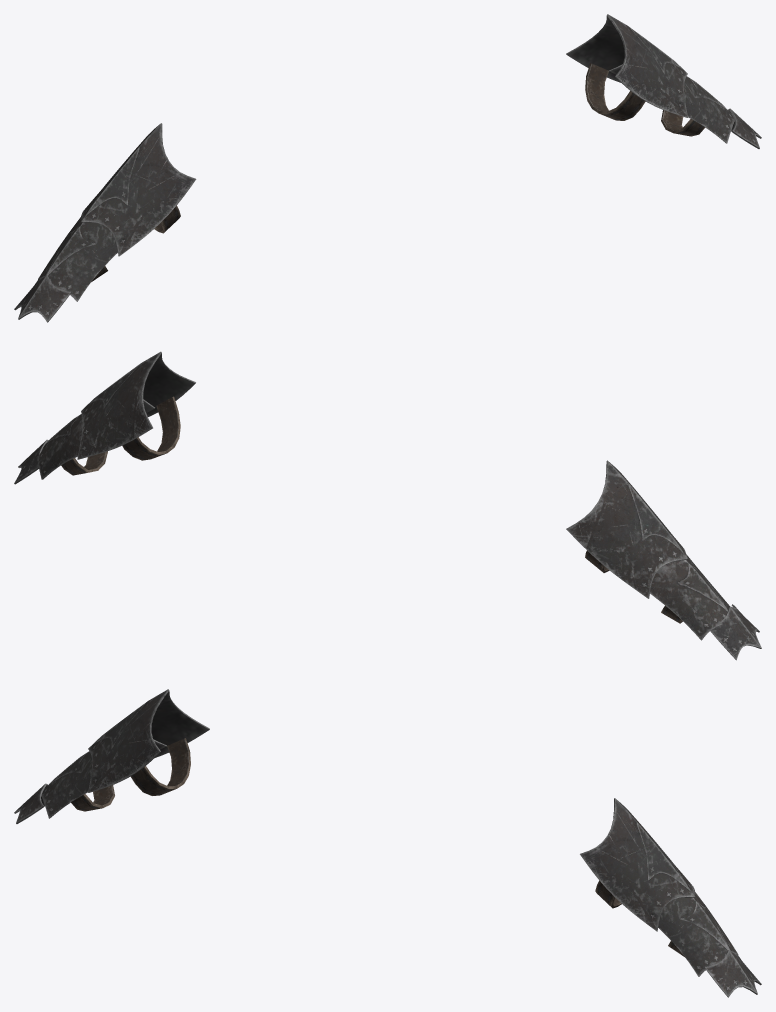
Rendered from sk_uruk_mordor_bracer_heavy_b.fbx.
3 views of the same model, one above another, from view 1: azimuth 30°, elevation 25°; view 2: azimuth 150°, elevation 25°; view 3: azimuth 330°, elevation 25° (orthographic).
Parts seen in each view (by area): view 1: sk_uruk_mordor_bracer_heavy_b.1, sk_uruk_mordor_bracer_heavy_b.0; view 2: sk_uruk_mordor_bracer_heavy_b.1, sk_uruk_mordor_bracer_heavy_b.0; view 3: sk_uruk_mordor_bracer_heavy_b.1, sk_uruk_mordor_bracer_heavy_b.0.
Boxes of the visible parts, bbox=[...] form: sk_uruk_mordor_bracer_heavy_b.1: bbox=[14, 14, 761, 322]; sk_uruk_mordor_bracer_heavy_b.0: bbox=[91, 63, 704, 281]; sk_uruk_mordor_bracer_heavy_b.1: bbox=[14, 351, 761, 660]; sk_uruk_mordor_bracer_heavy_b.0: bbox=[61, 396, 682, 623]; sk_uruk_mordor_bracer_heavy_b.1: bbox=[14, 689, 761, 997]; sk_uruk_mordor_bracer_heavy_b.0: bbox=[71, 738, 684, 956].
Size of the model in its own units: 1.53 by 0.1676 by 0.3149.
Materials: 2 (2 with a texture image).
